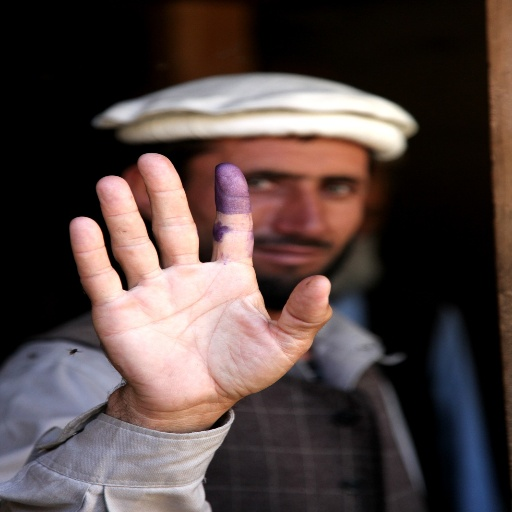hand: (68, 149, 334, 418)
